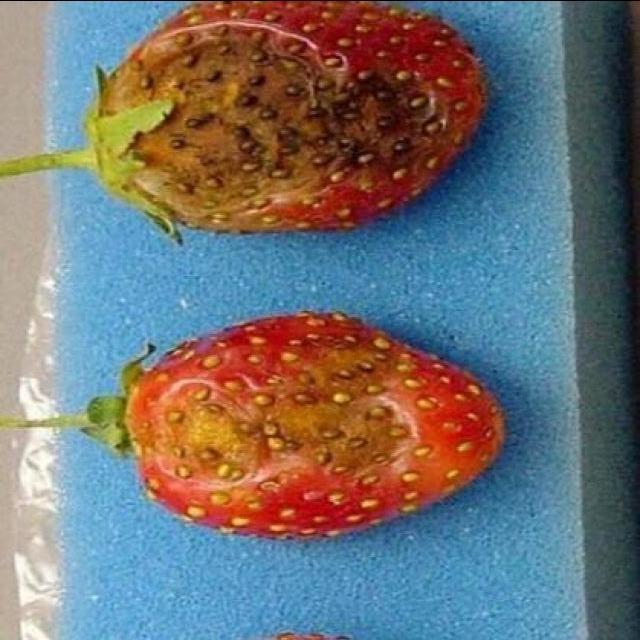Anthracnose Fruit Rot: (43, 309, 508, 541), (75, 0, 489, 243)
